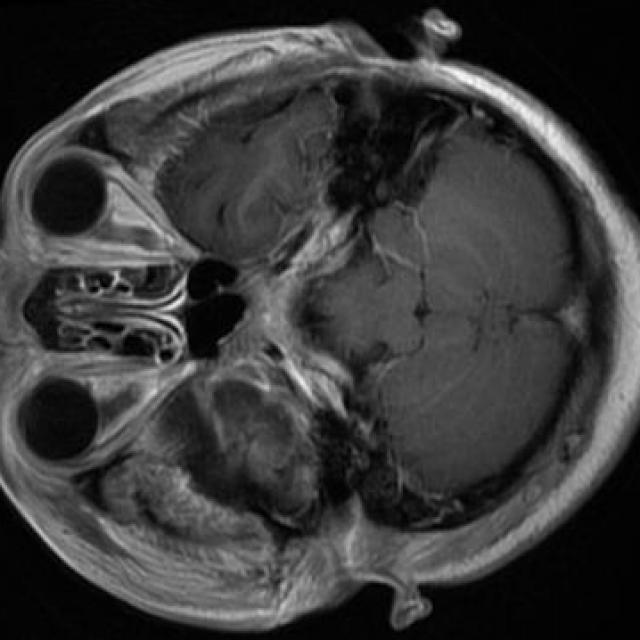glioma: (200, 364, 319, 508)
